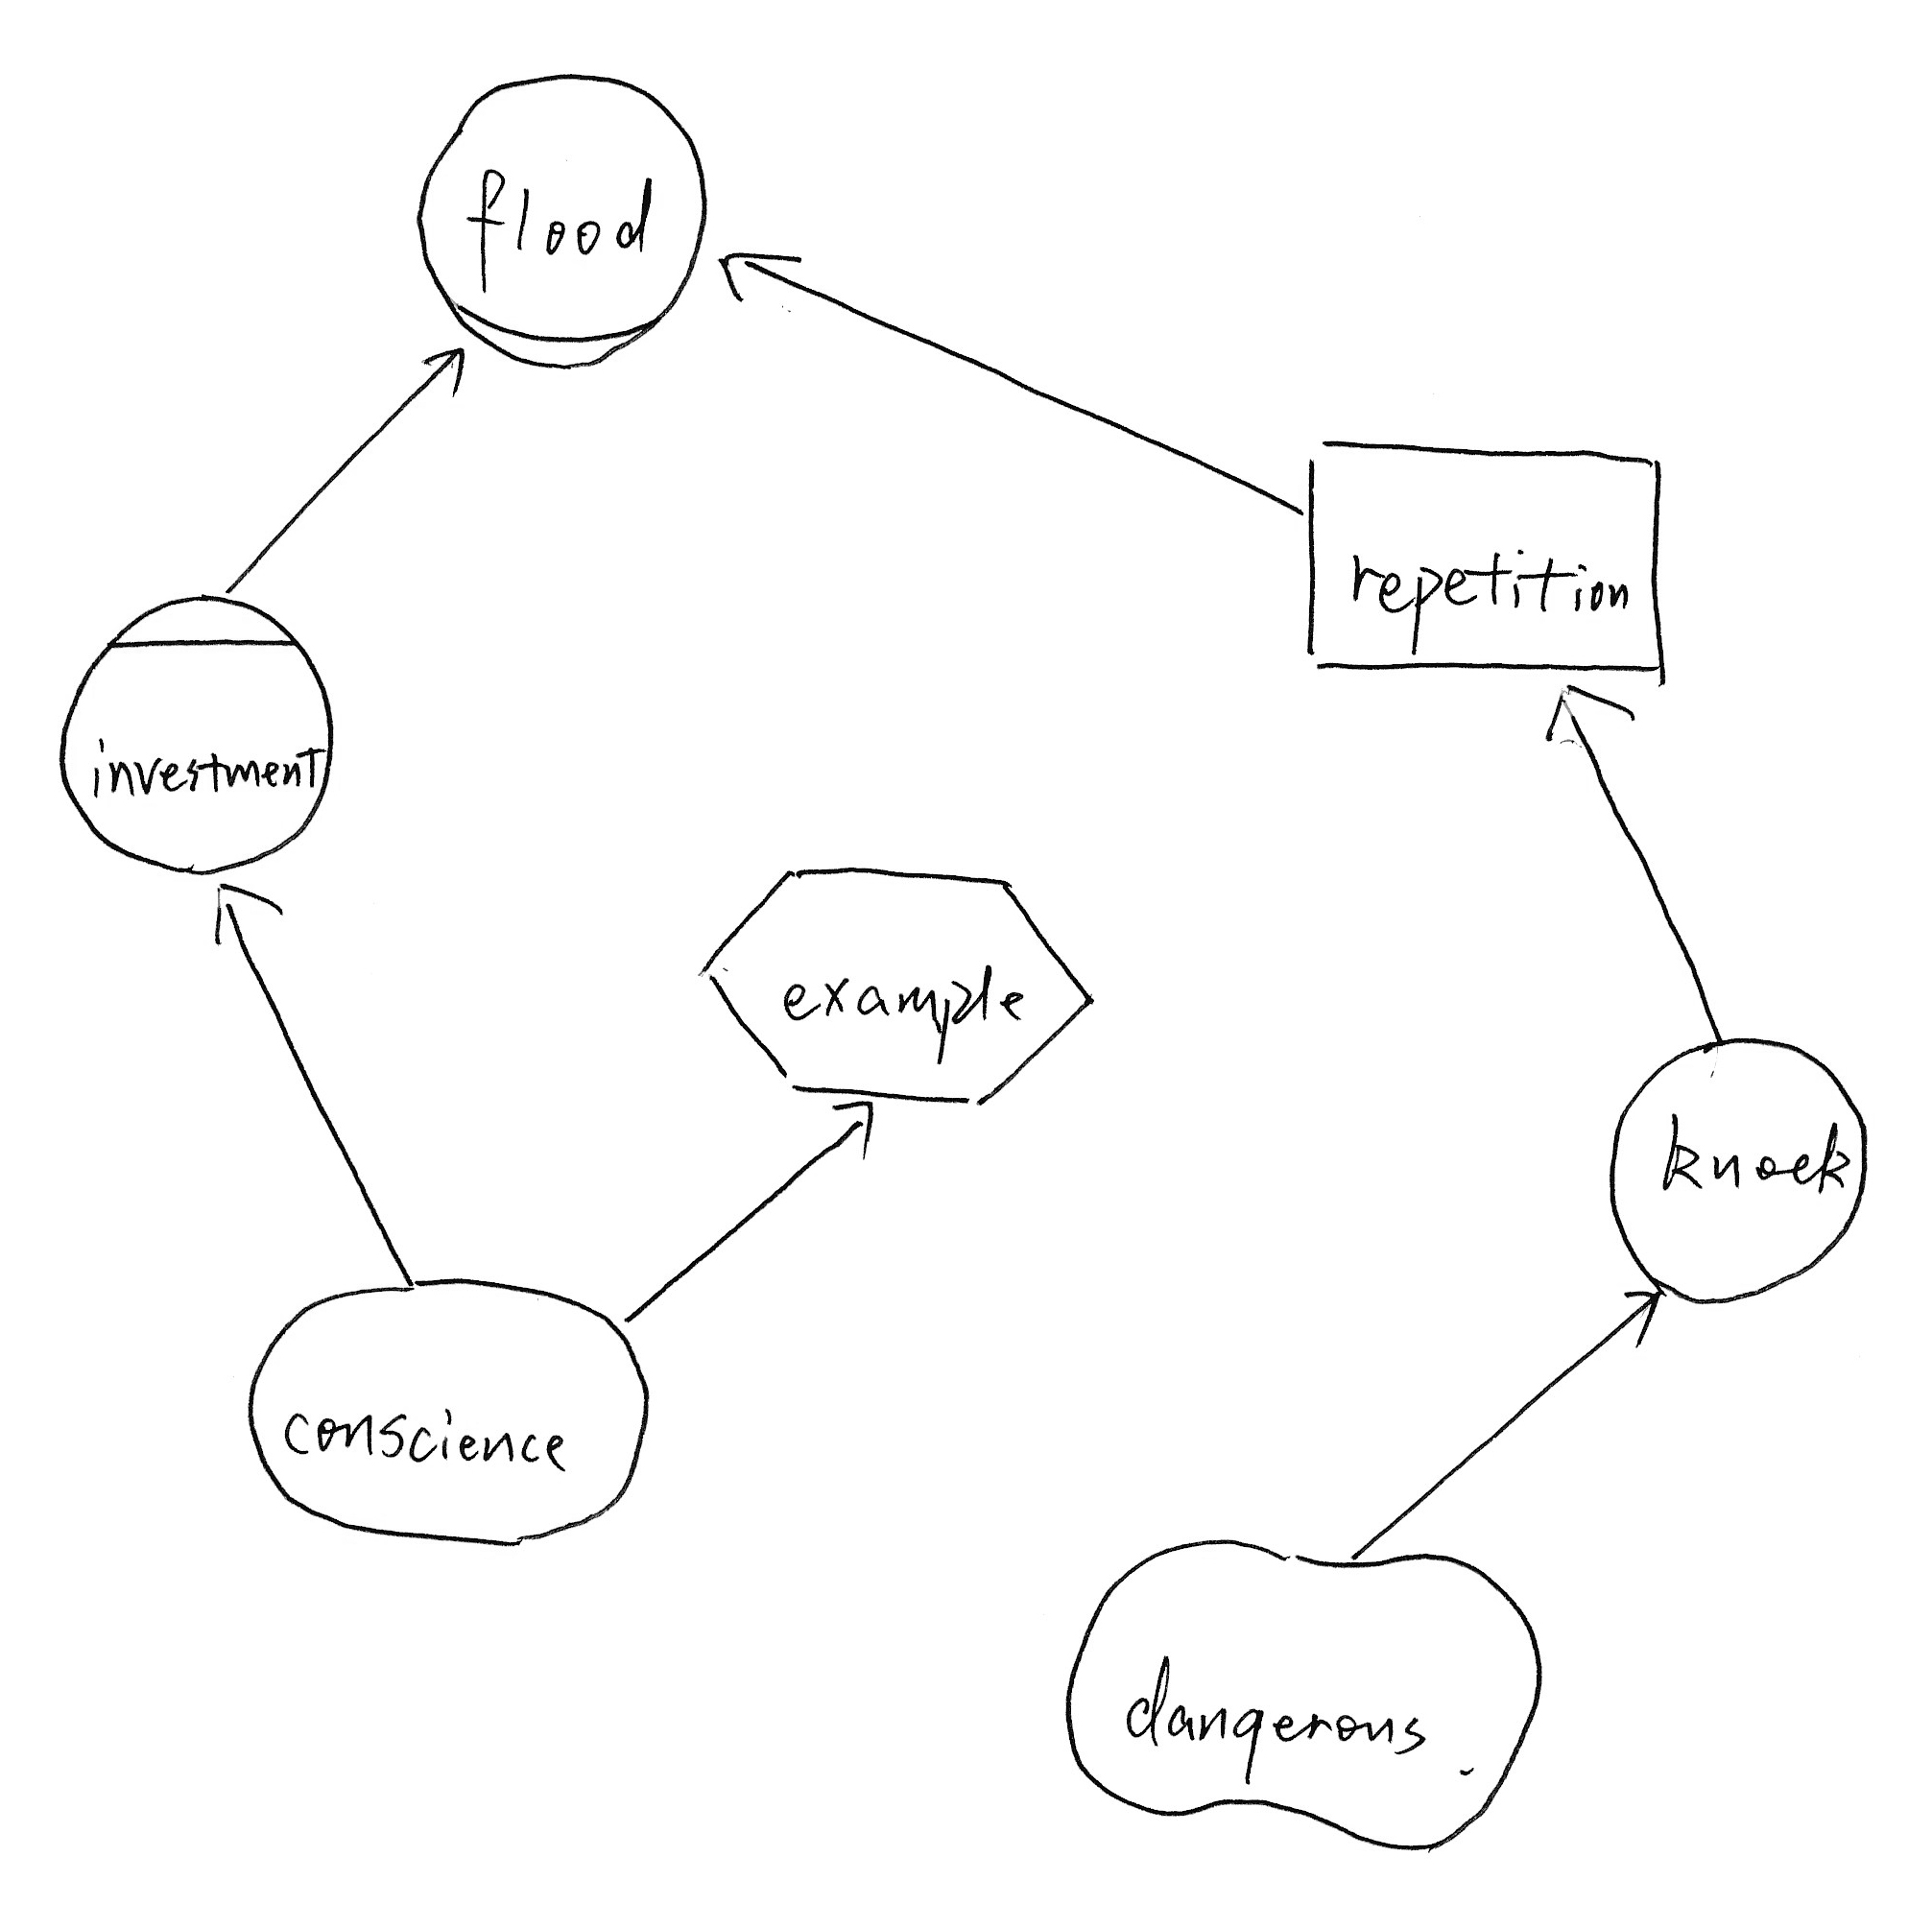actor: (1595, 1022, 1883, 1317)
agent: (48, 577, 351, 890)
arrow: (1521, 671, 1649, 766), (705, 230, 814, 327), (201, 876, 291, 957), (1596, 1277, 1669, 1358), (411, 332, 480, 415), (818, 1089, 885, 1167)
goal: (228, 1257, 668, 1568)
quality: (1042, 1520, 1561, 1861)
resource: (1284, 417, 1697, 696)
role: (403, 53, 715, 388)
task: (685, 839, 1109, 1130)
